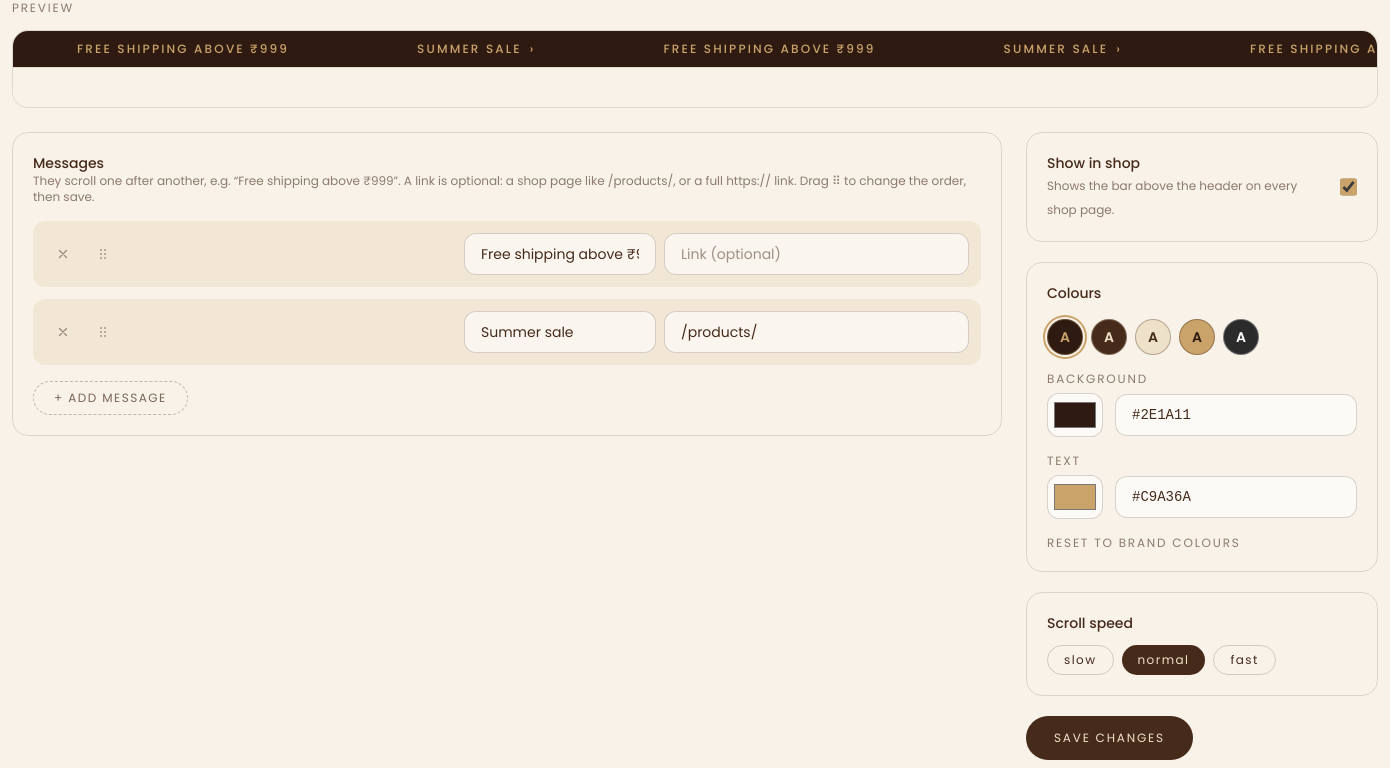
Scenario: AnnouncementForm › a link without a message is refused on its row
Clear the field named "Message 2" at (560, 332), box x1=464 y1=311 x2=656 y2=353
(page scrolled)
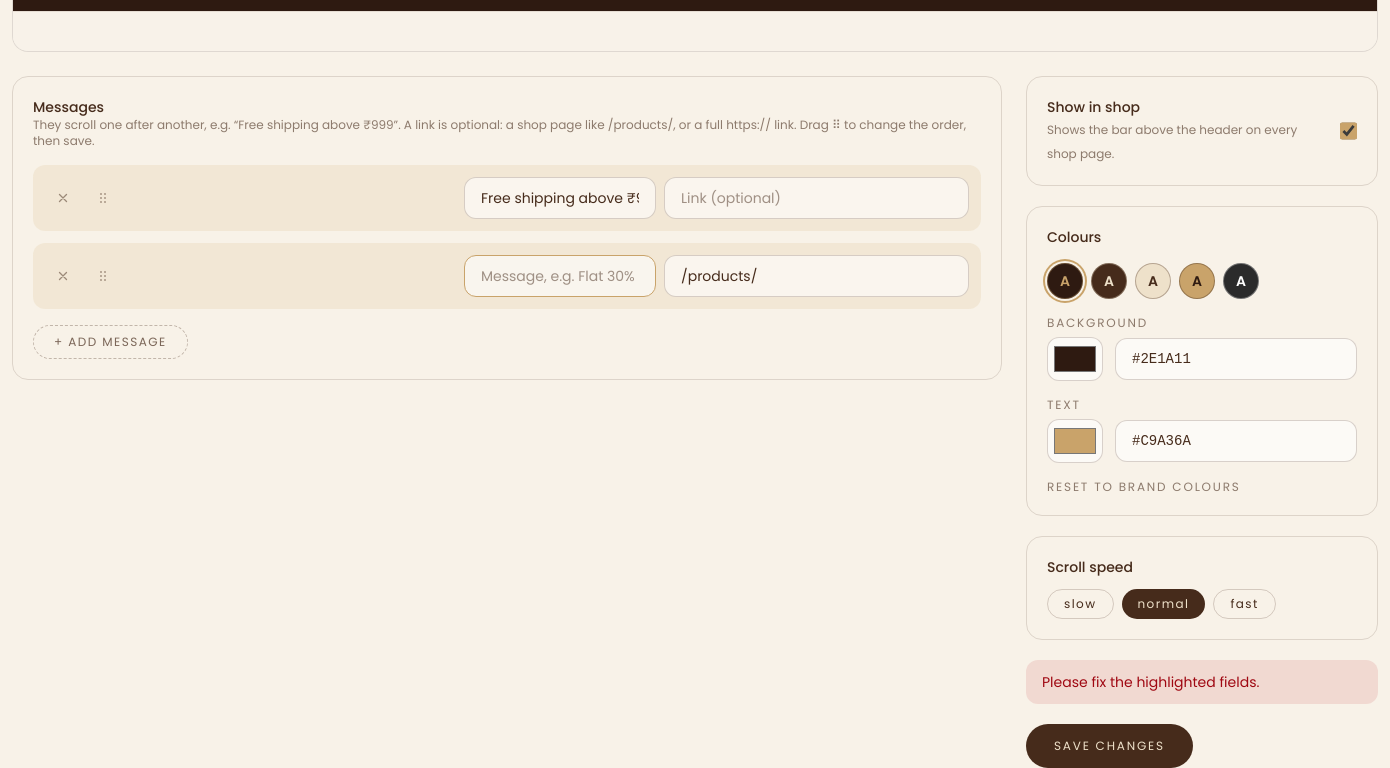
Click the button "Save changes" at (1109, 746), box x1=1026 y1=724 x2=1193 y2=767
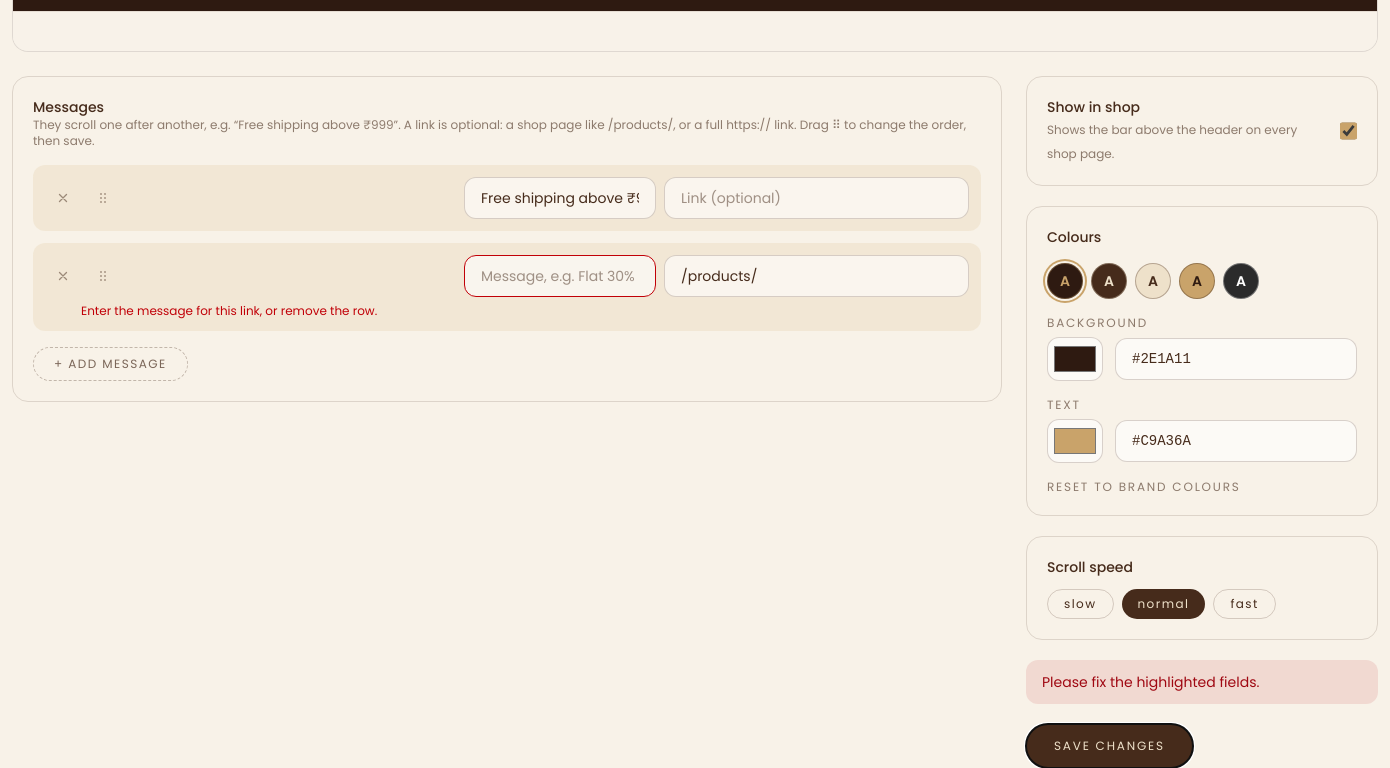
Check: the message reads "Please fix the highlighted fields.", box x1=1042 y1=672 x2=1259 y2=692
Check: the text "Enter the message for this link, or remove the row." is shown, box x1=81 y1=302 x2=377 y2=319
